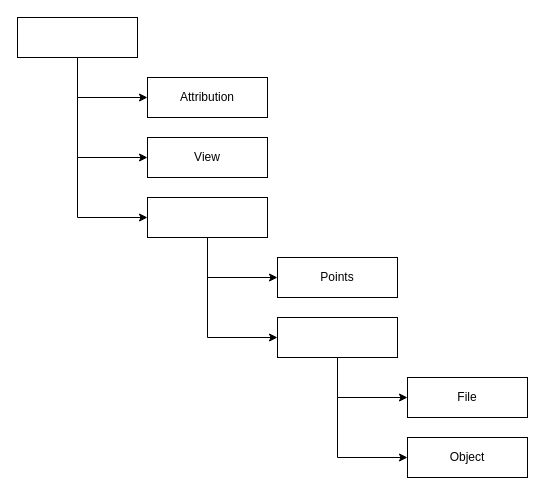
Some shapes in this 545 by 495 pixel diagram are drawn without their labels. The box of each missing label's shape, as (x1, y1, x2, y2) in pixels:
From: (276, 316, 398, 358)
Geometric: (146, 196, 268, 238)
Map: (16, 16, 138, 58)
